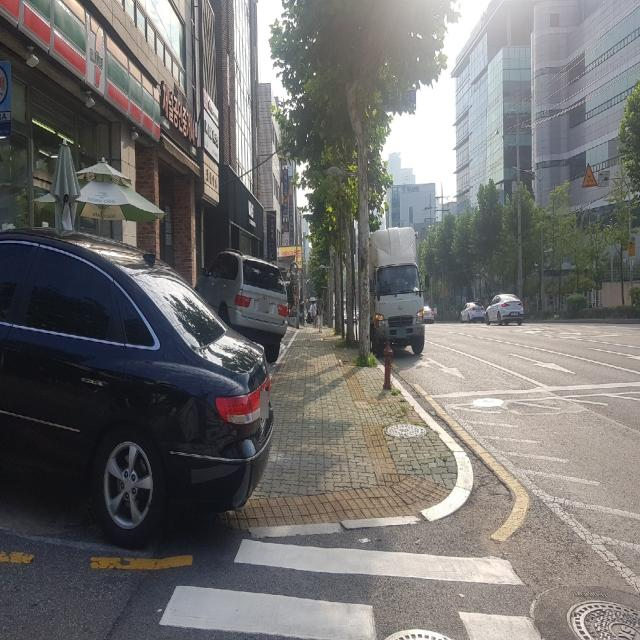횡단보도: (159, 536, 541, 640)
